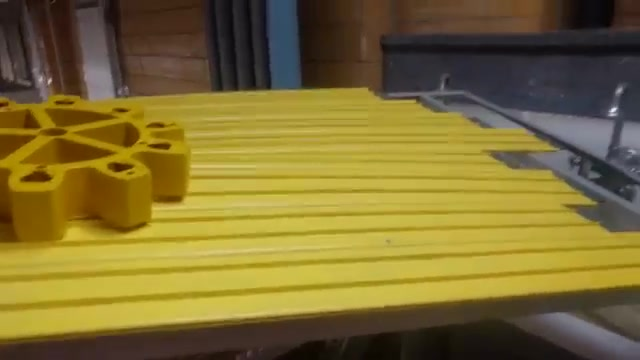gear: (1, 77, 198, 256)
